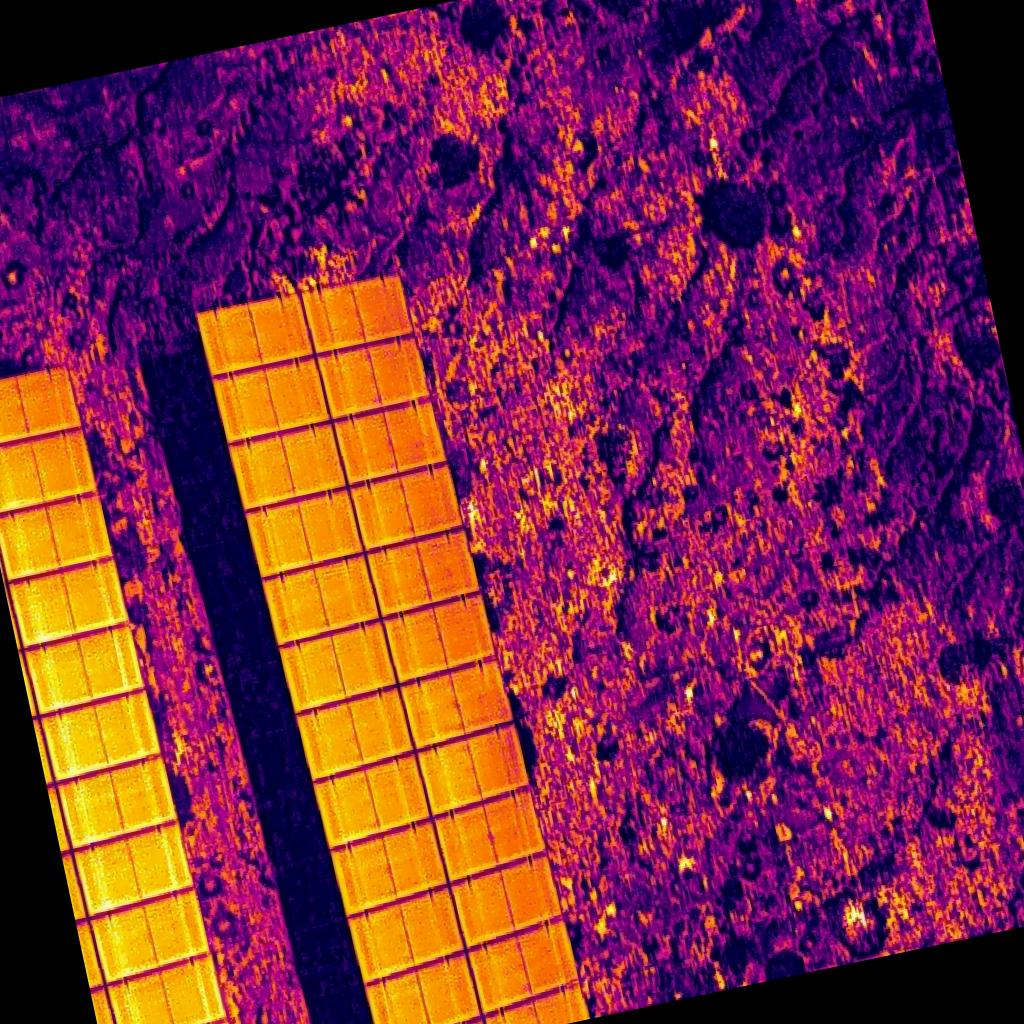panel: (350, 886, 464, 984), (366, 530, 479, 616)
